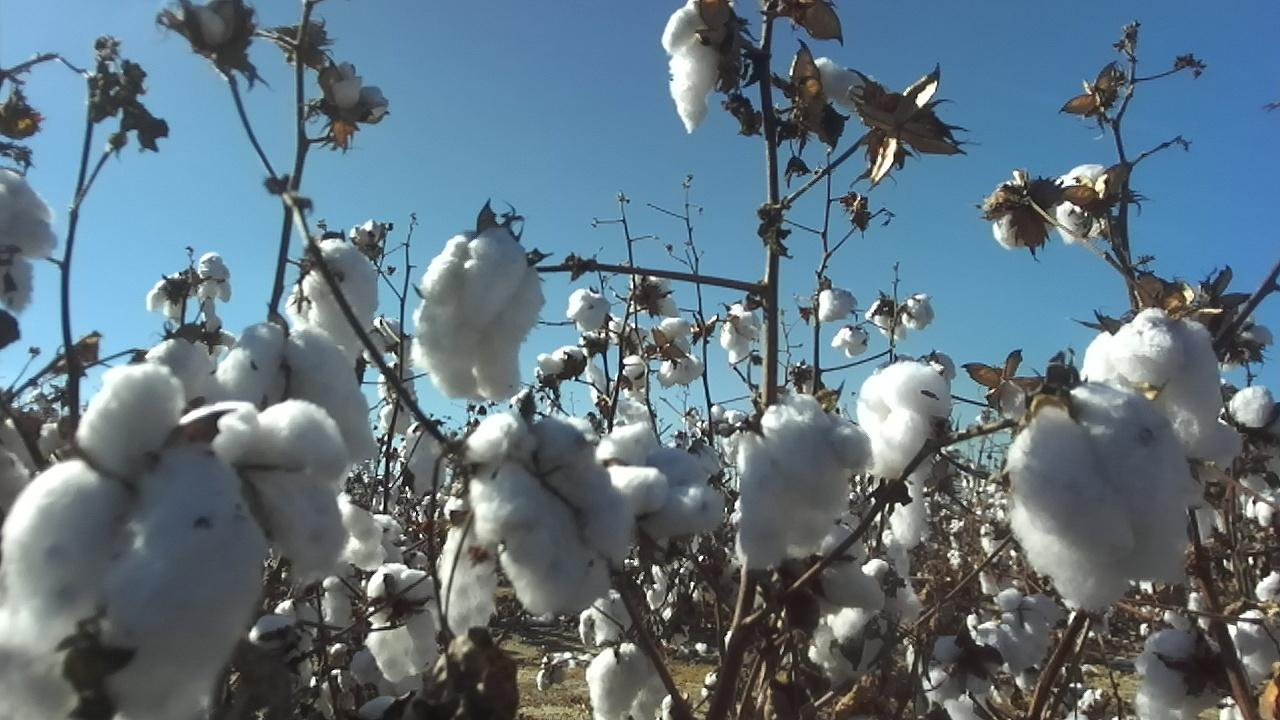cotton_ready: (0, 360, 269, 720), (1006, 382, 1193, 613), (464, 415, 630, 618), (178, 399, 349, 577), (1082, 309, 1239, 472), (732, 394, 874, 565), (410, 225, 547, 401), (218, 322, 380, 461), (858, 360, 952, 551), (599, 419, 724, 539), (811, 557, 924, 683), (286, 240, 382, 371), (324, 494, 389, 628), (364, 567, 440, 680), (440, 497, 499, 639), (1137, 625, 1224, 720), (0, 169, 57, 313), (661, 0, 720, 137), (250, 597, 319, 694), (1220, 384, 1280, 490), (144, 337, 234, 405), (587, 644, 667, 720), (991, 589, 1060, 675), (804, 57, 890, 114), (922, 637, 999, 700), (1056, 167, 1115, 247), (990, 183, 1059, 250), (324, 62, 387, 124), (1225, 609, 1280, 680), (184, 0, 245, 50)
